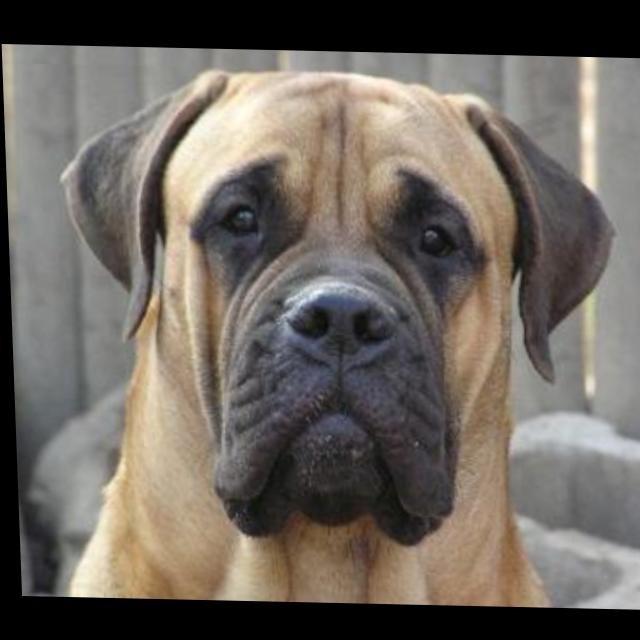bullmastiff: (41, 63, 626, 608)
